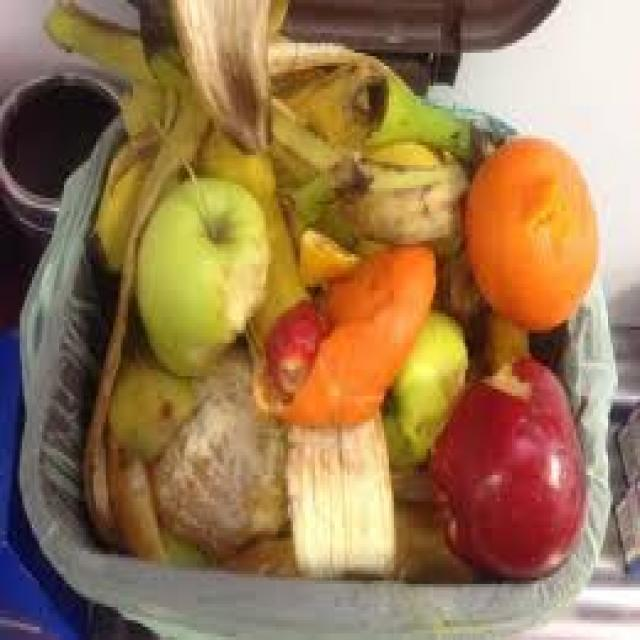Wet: (46, 2, 612, 612), (129, 144, 267, 380)
